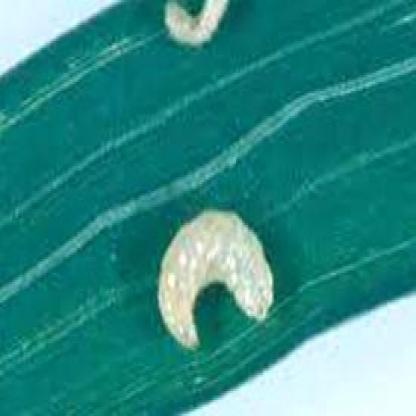whorl-maggot: (150, 202, 280, 350), (160, 0, 234, 50)
